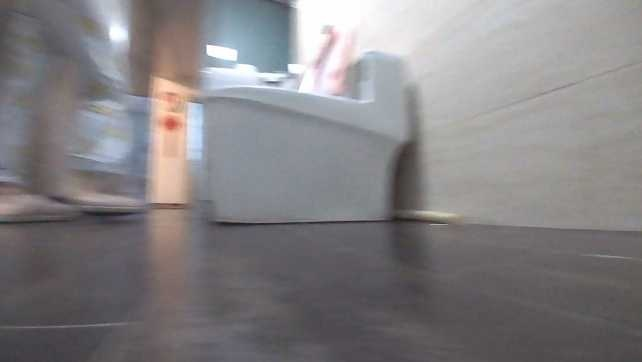toilet: (198, 46, 411, 226)
